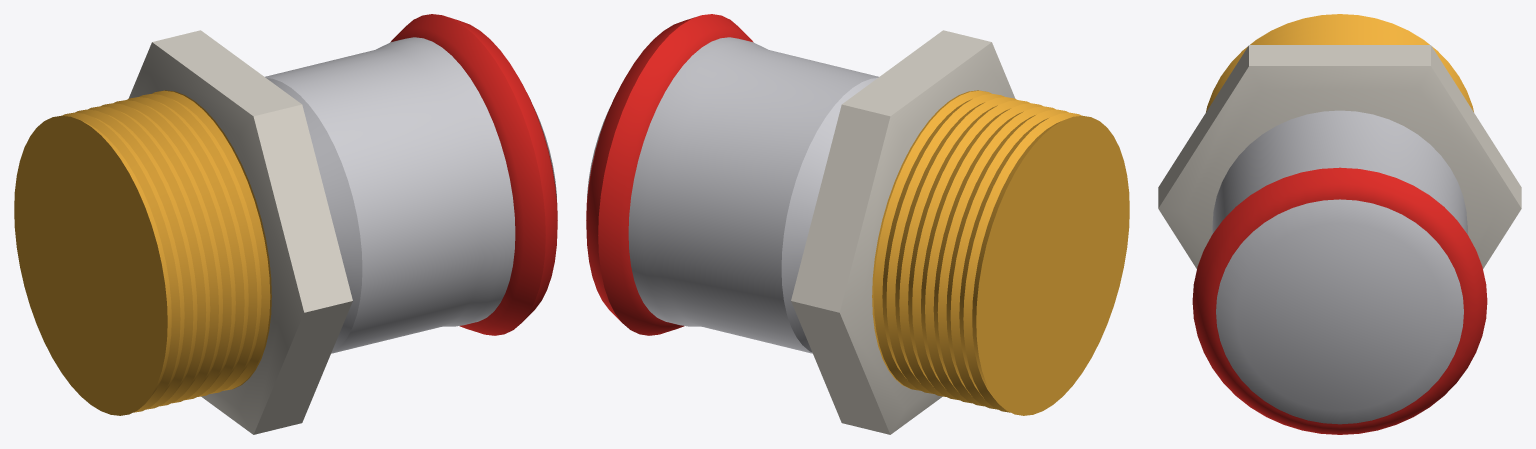
The model's file is fitting_adp_22x1_M_r.glb.
3 views of the same model, side by side, from view 1: azimuth 30°, elevation 25°; view 2: azimuth 150°, elevation 25°; view 3: azimuth 270°, elevation 25° (orthographic). The views are drawn at different scales.
Visible parts, largest first — view 1: резьба НР, раструб, шестигранник переходника, кольцо пресс; view 2: резьба НР, раструб, шестигранник переходника, кольцо пресс; view 3: раструб, шестигранник переходника, кольцо пресс, резьба НР.
Part boxes in pixels (x1,y1,x2,y2): резьба НР: (14, 90, 271, 415); раструб: (265, 37, 556, 353); шестигранник переходника: (128, 30, 352, 434); кольцо пресс: (390, 14, 557, 335); резьба НР: (872, 90, 1129, 415); раструб: (587, 37, 878, 353); шестигранник переходника: (791, 30, 1015, 434); кольцо пресс: (586, 14, 753, 335); раструб: (1212, 110, 1467, 424); шестигранник переходника: (1158, 45, 1521, 268); кольцо пресс: (1192, 167, 1487, 434); резьба НР: (1206, 14, 1473, 111).
Size of the model in its own units: 0.051 by 0.038 by 0.0439.
